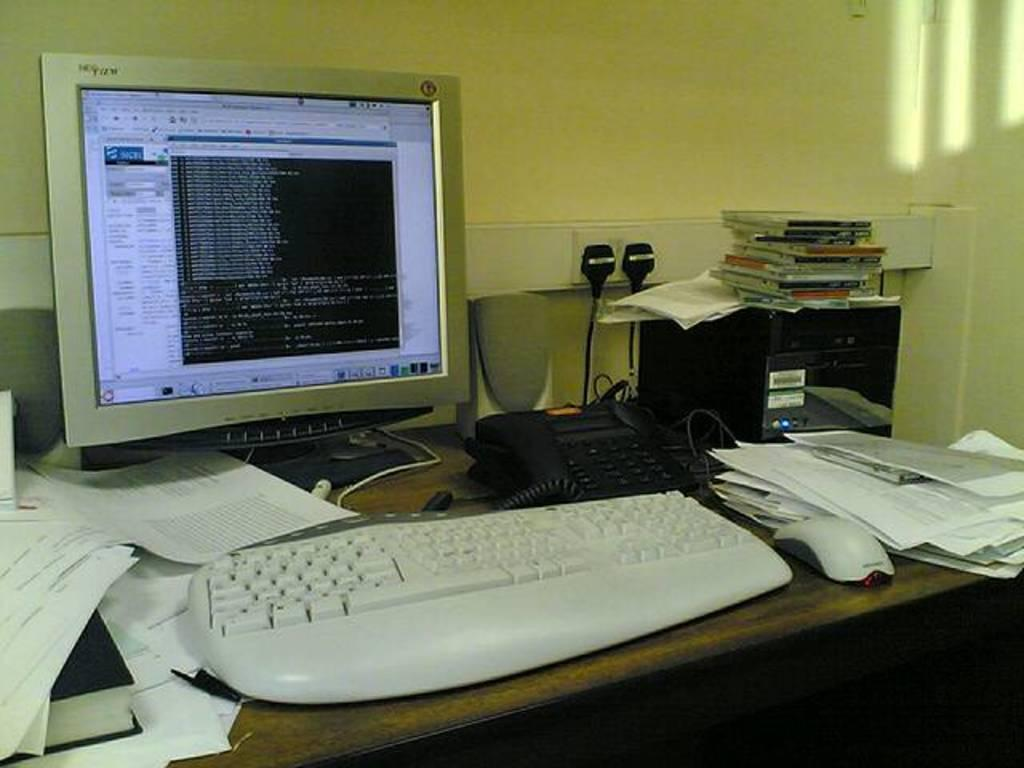Computer-keyboard: (184, 490, 795, 699)
Computer-monitor: (37, 86, 469, 506)
